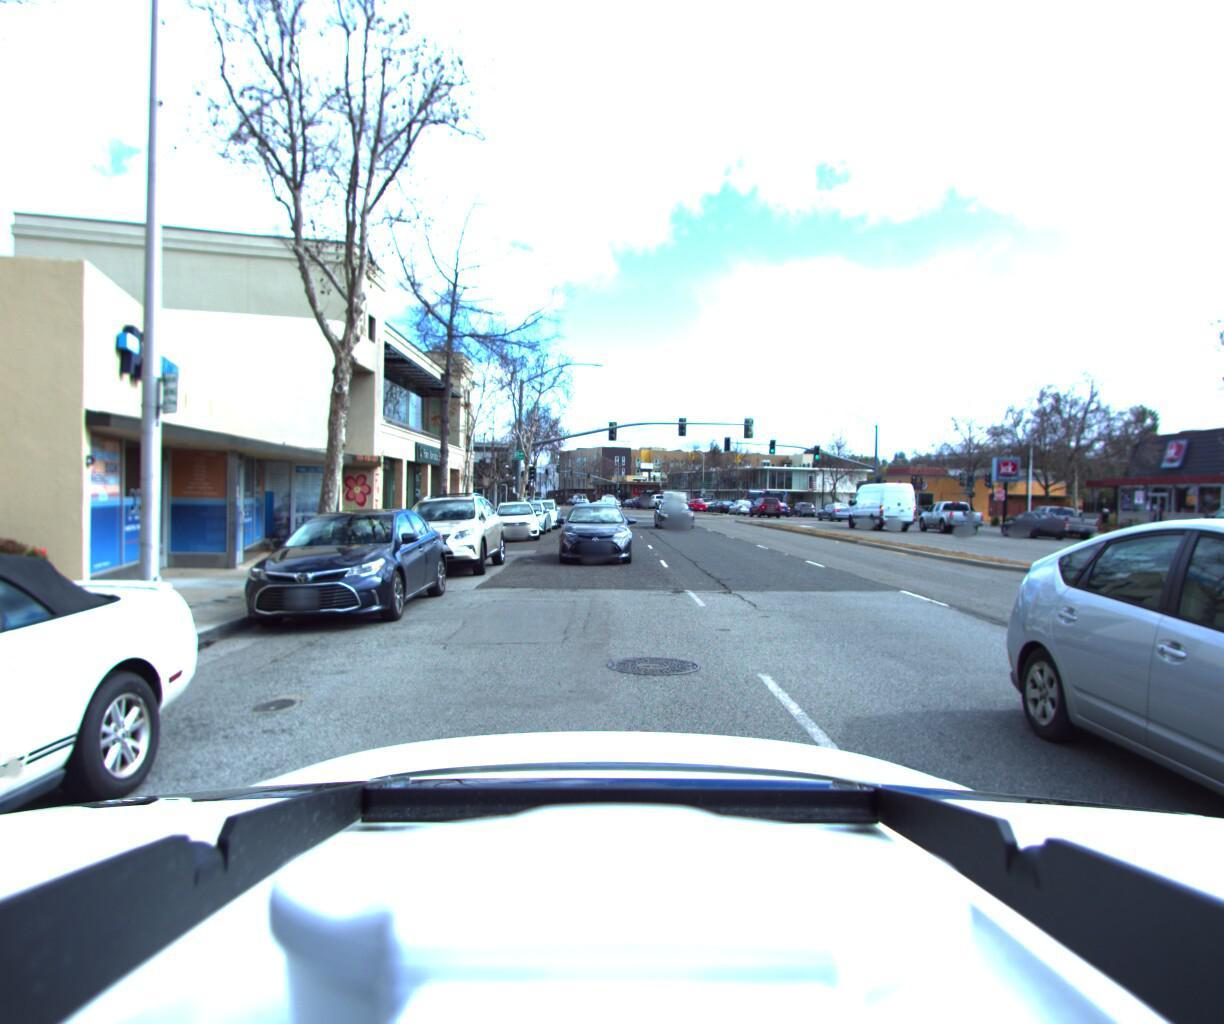car: (0, 519, 235, 1024), (1040, 506, 1224, 1024), (218, 507, 462, 644), (382, 491, 511, 586), (558, 503, 635, 573), (844, 484, 919, 536), (1013, 505, 1106, 543), (1179, 503, 1224, 566), (915, 501, 984, 537), (1000, 508, 1073, 541), (493, 500, 543, 545), (505, 502, 556, 538), (524, 500, 566, 534), (656, 500, 699, 533), (817, 504, 856, 525), (749, 498, 785, 520), (727, 503, 755, 520), (787, 503, 818, 518)
